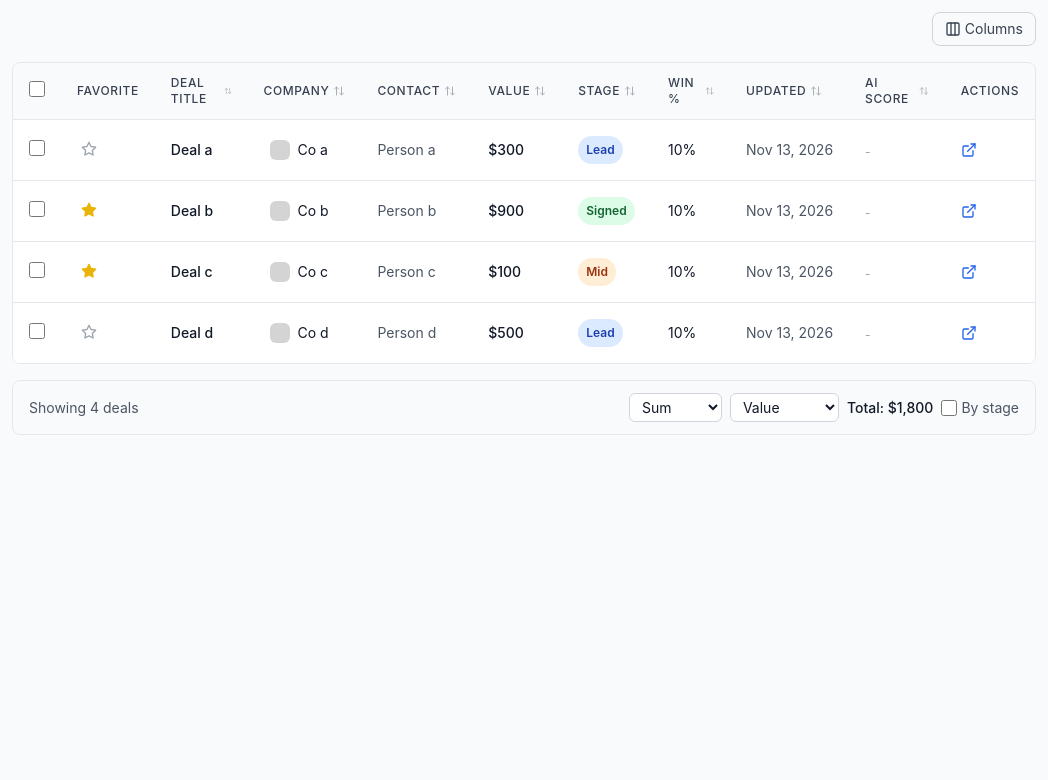
it: bulk selection in the table view › shows the shared BulkActionBar once a row is selected, and clears with Esc
Later steps or results of the test are not shown.
Step 1. Click the checkbox named "Select Deal a" → point(37, 148), box [29, 140, 45, 156]
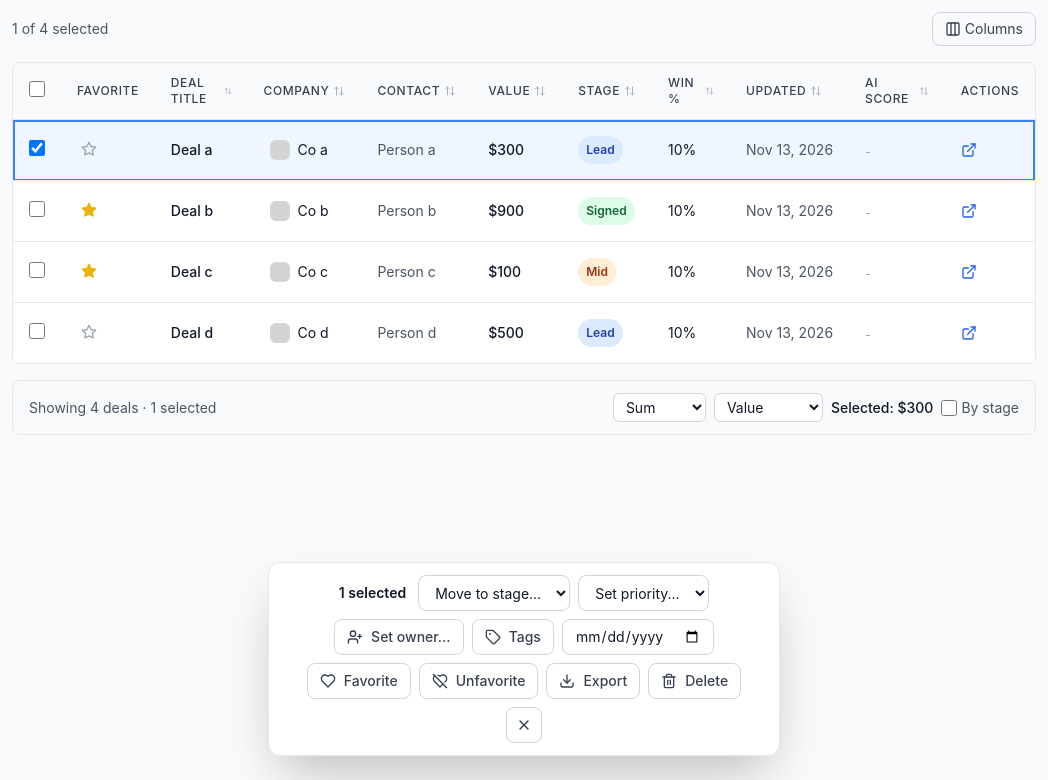
Expected: the text "1 selected" is shown, [339, 583, 410, 603]
